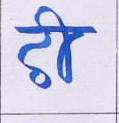i_matra: (42, 5, 77, 83)
